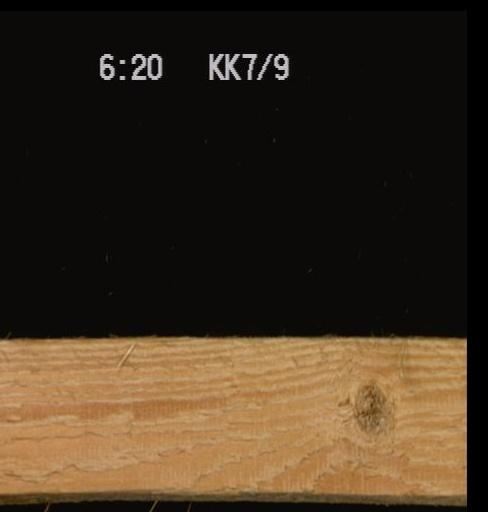sound_knot: (346, 372, 399, 441)
